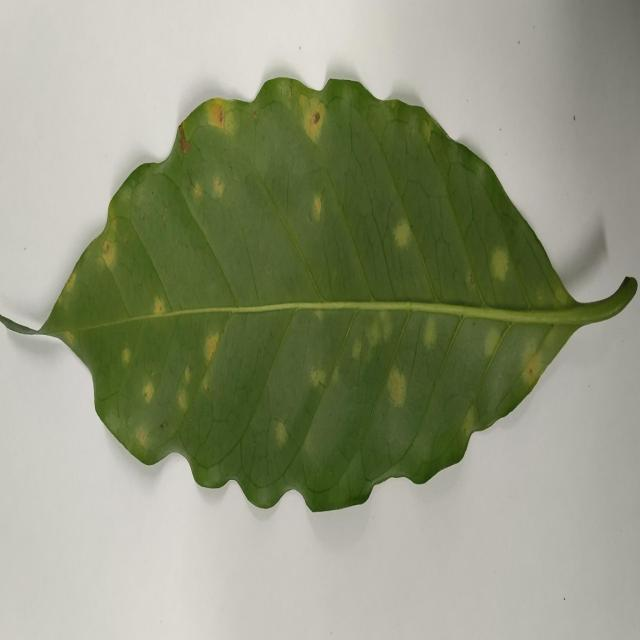Enfermedad-Roya: (33, 78, 639, 516)
